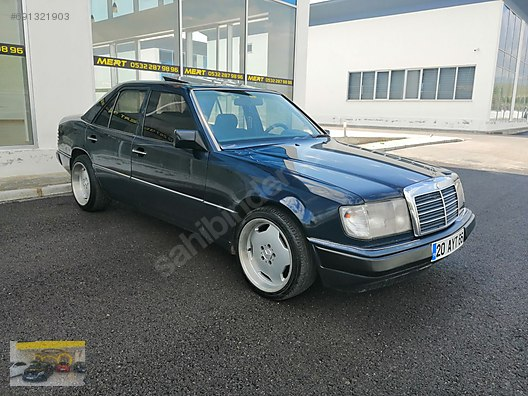mercedes: (50, 70, 486, 303)
